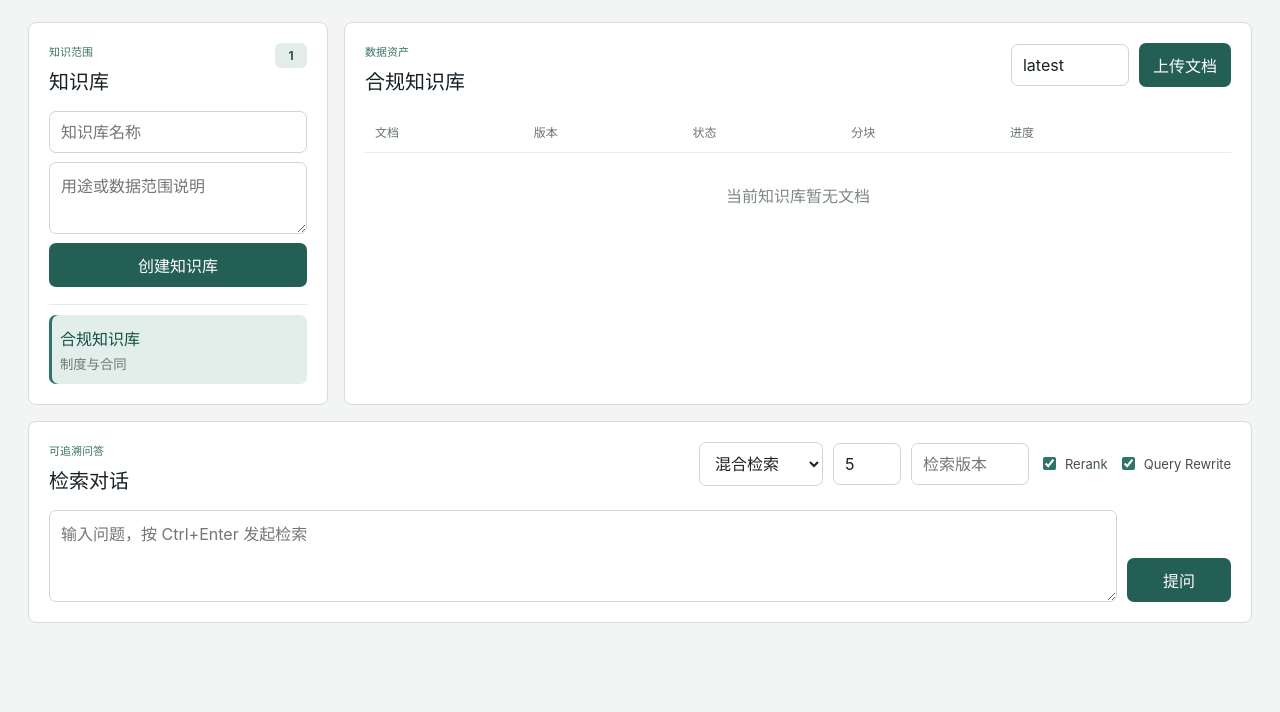
Scenario: App shell › renders the answer and citations delivered as SSE frames
Type "注册资本是多少？" into the text box with placeholder "输入问题，按 Ctrl+Enter 发起检索". click: (583, 556)
box: [49, 510, 1117, 602]
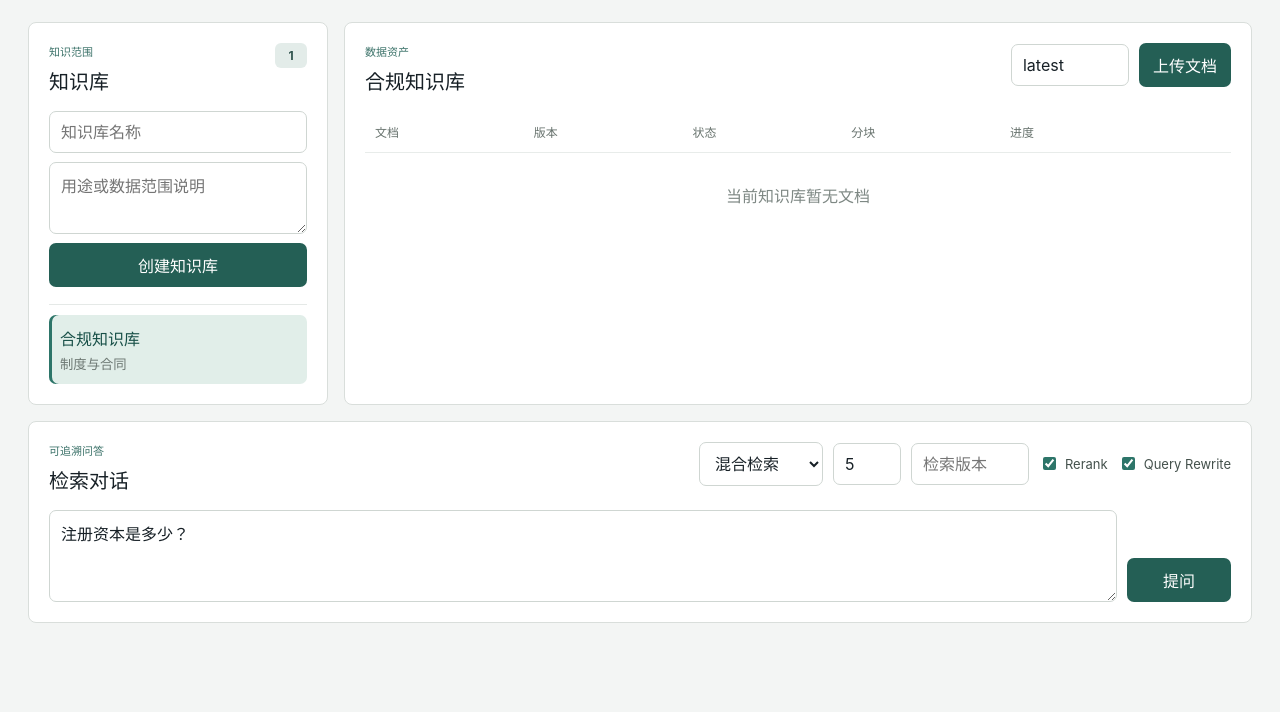
Click the button with class "ask-button". click: (1179, 580)
box: [1127, 558, 1231, 602]
(page scrolled)
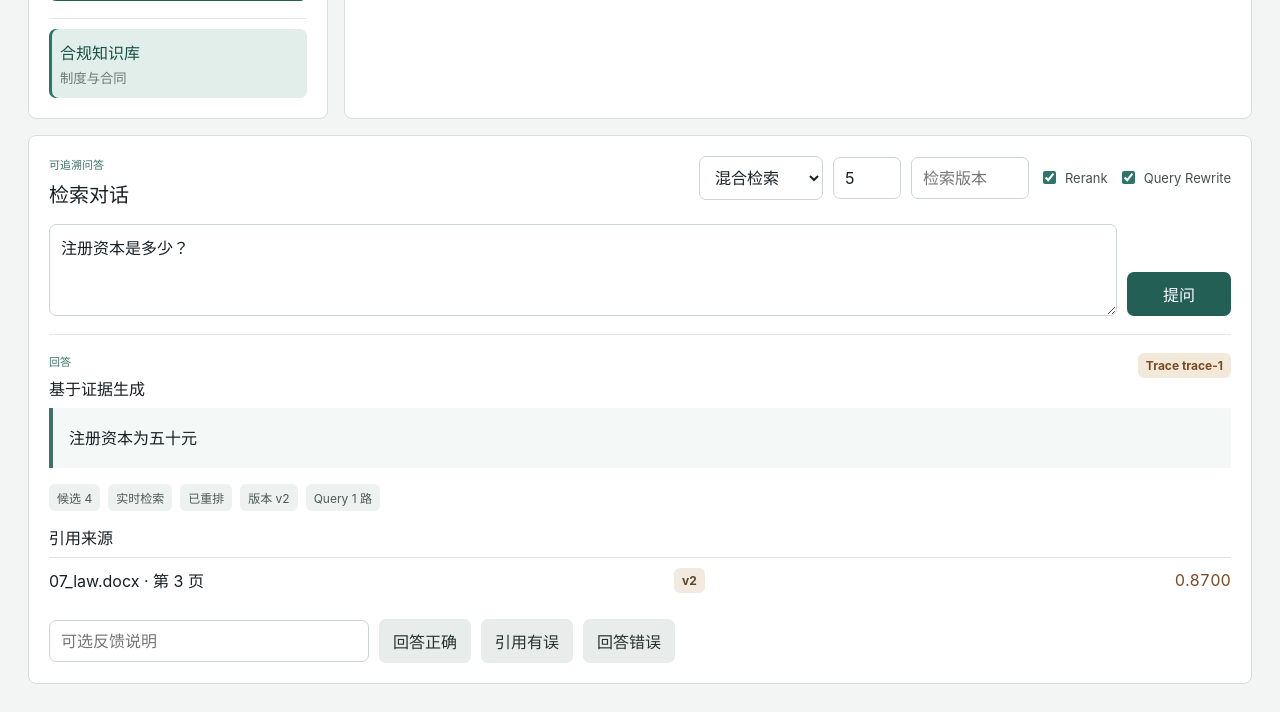
Now the element with class "answer-region" is shown, box [49, 334, 1231, 662]
Now the text with class "answer-text" reads "注册资本为五十元", box [69, 428, 197, 448]
Now the heading "07_law.docx · 第 3 页 v2 0.8700" is shown, box [49, 568, 1231, 592]
